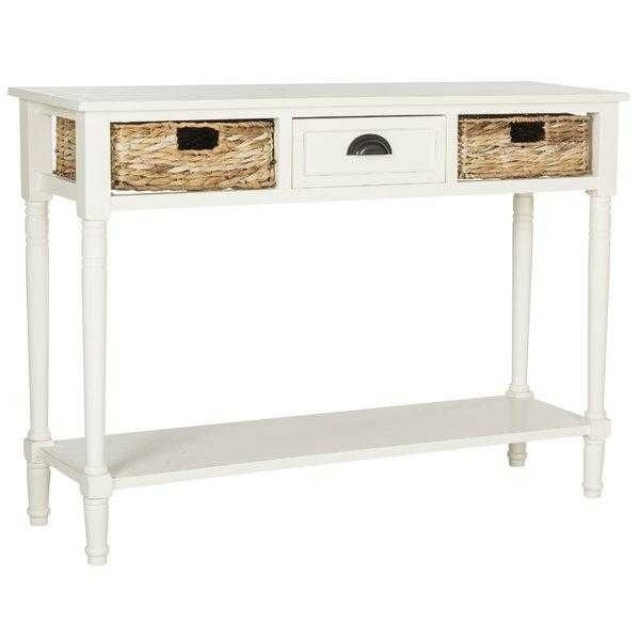obstacle: (10, 82, 626, 563)
